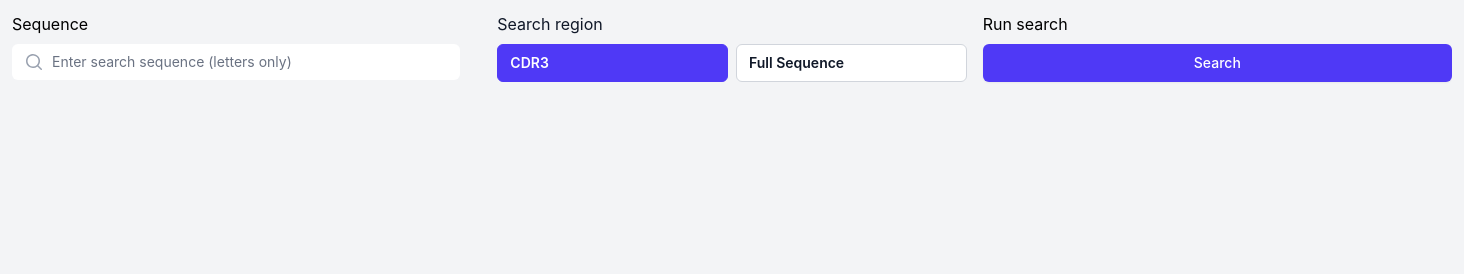
Scenario: BlastSequencing › renders results via BlastResultsTable after successful fetch
The image size is (1464, 274).
In the search field with placeholder "Enter search sequence (letters only)": coordinates (236, 62) [12,44,460,80], type "ACGTACGT"
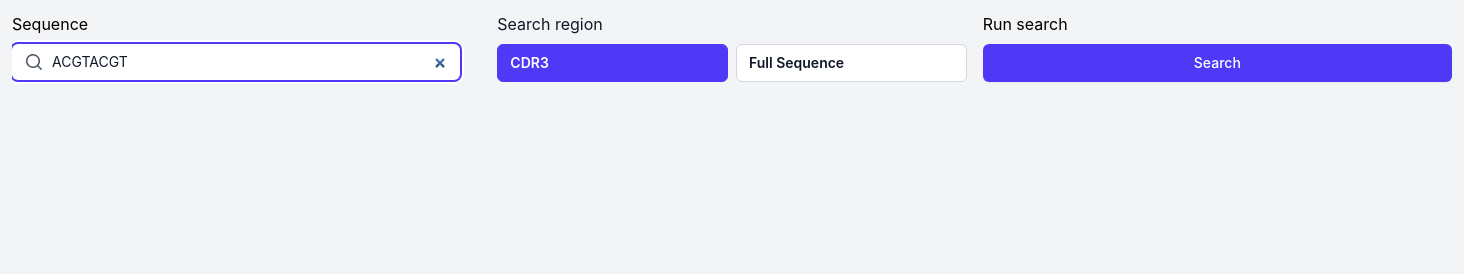
Click the button "Search": coordinates (1217, 63) [983,44,1452,82]
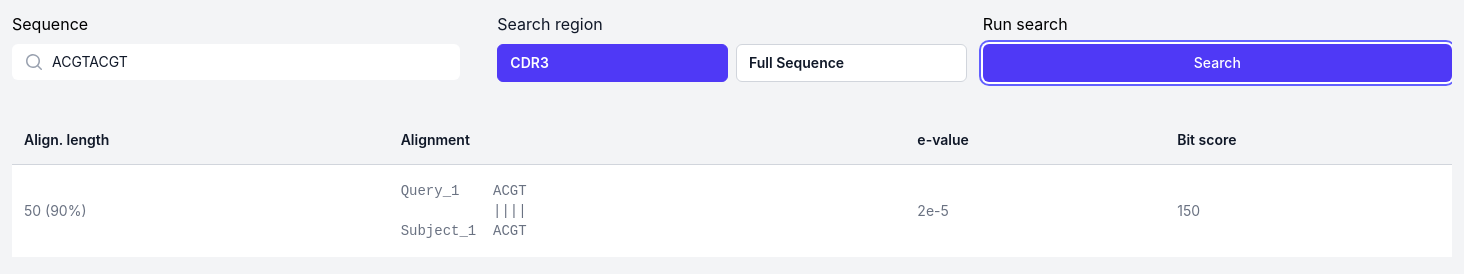
Result: the text "50 (90%)" is shown at [12,164,389,257]
Result: the text "2e-5" is shown at [905,164,1165,257]
Result: the text "150" is shown at [1165,164,1452,257]
